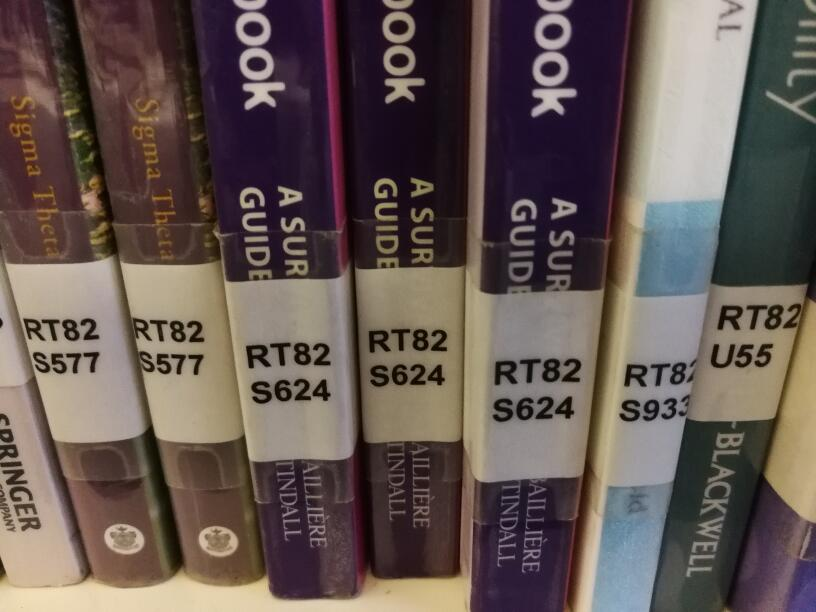booklabel: (706, 300, 804, 370), (486, 354, 581, 422), (244, 338, 332, 406), (365, 326, 450, 391), (618, 356, 698, 422), (18, 317, 100, 374), (132, 317, 204, 376)
